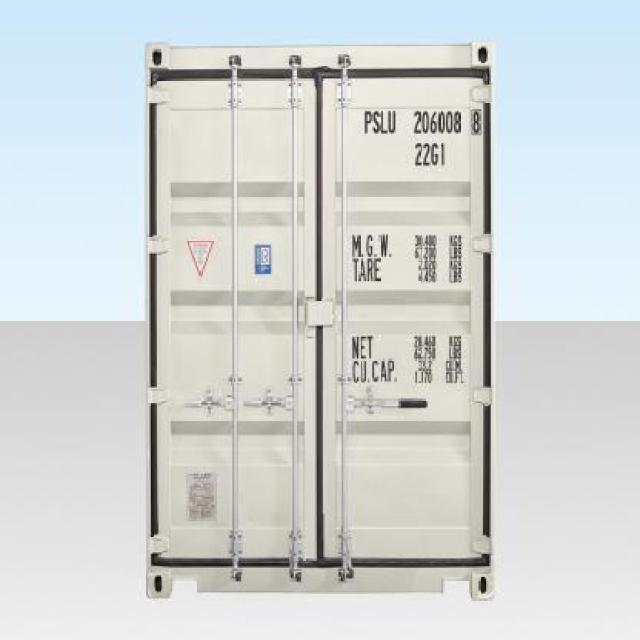ISO: (412, 140, 448, 168)
container_number: (362, 110, 484, 136)
